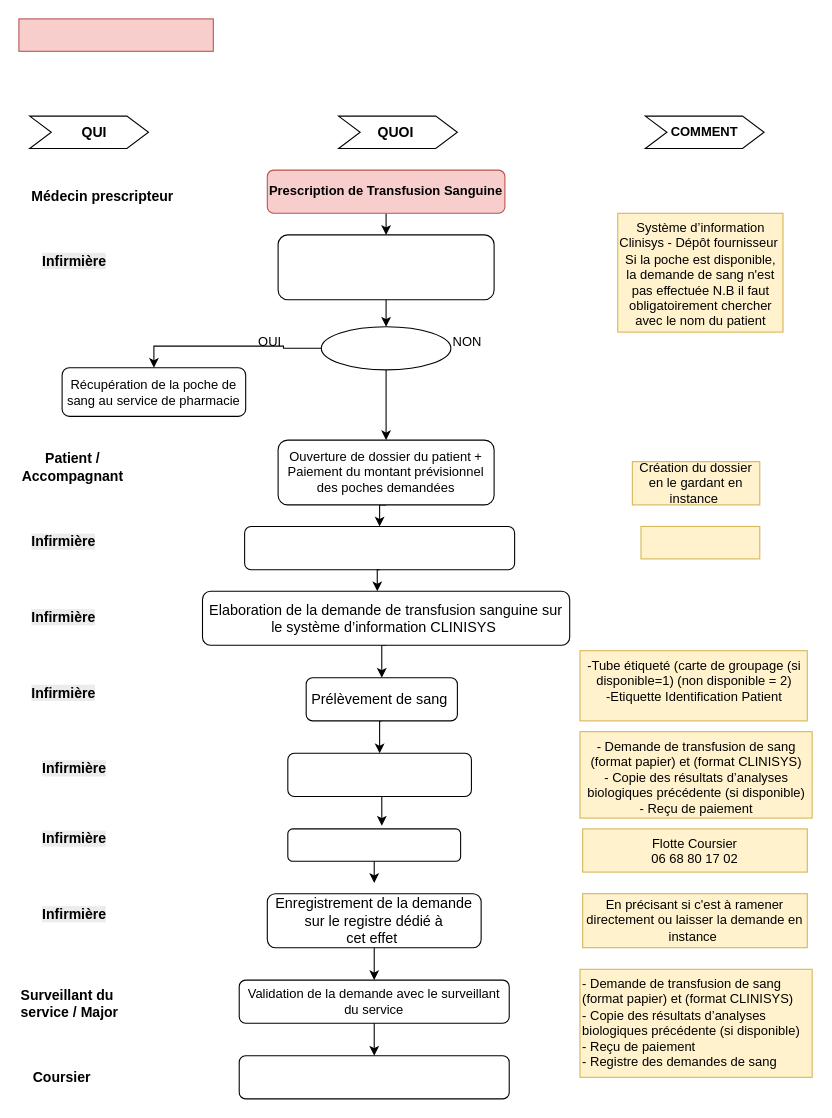
The diagram is 832 pixels wide and 1118 high, and some of its shapes have lost their labels. Each missing label, with the centre of its shape:
Cas de patient externe: pixel 115 34
Disponible ?: pixel 385 348
Etiquette Patient: pixel 700 542
Informer le coursier: pixel 374 844
Préparation de la demande: pixel 379 774
Transport de la demande au centre de transfusion sanguine: pixel 373 1077
Vérification de disponibilité des poches de sang: pixel 385 267
Vérification de l’identification Patient: pixel 379 547
